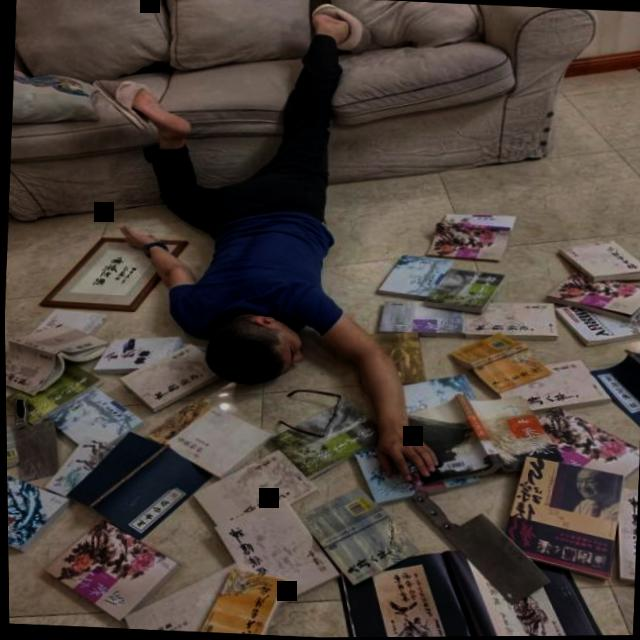Fall-Detected: (93, 0, 450, 494)
